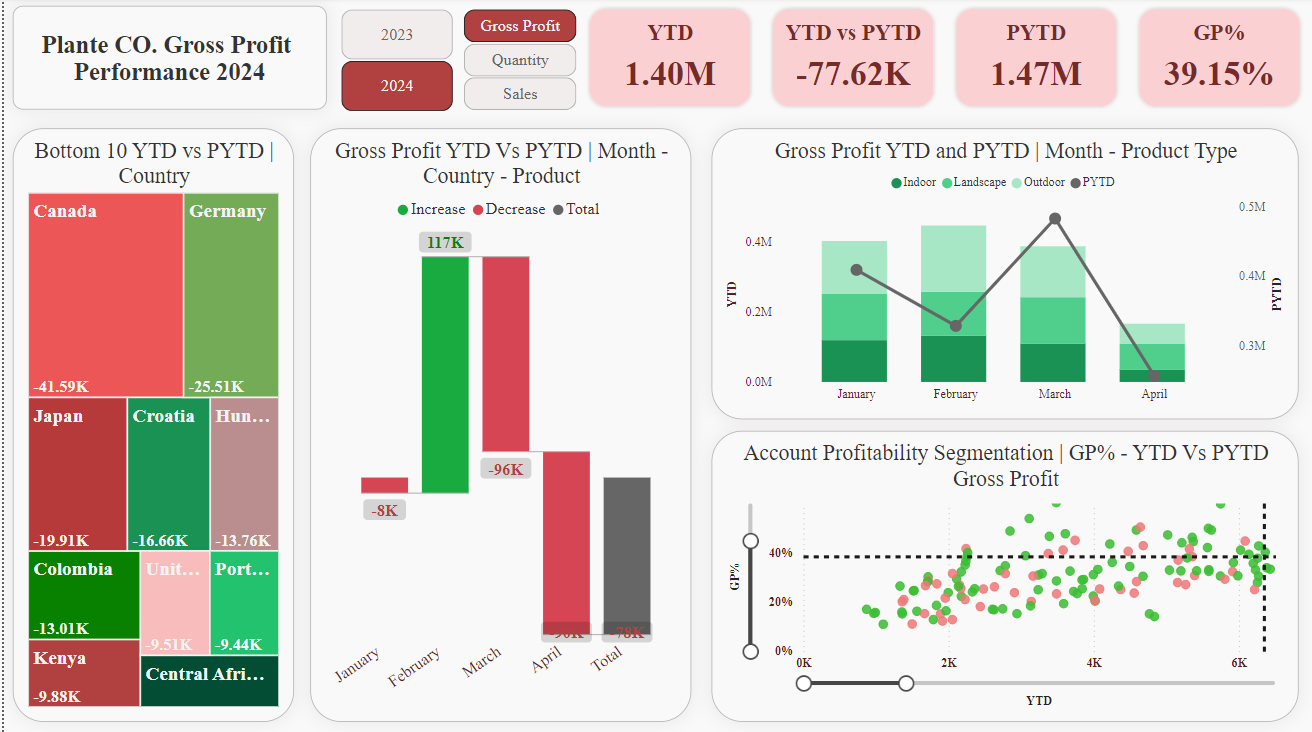

This screenshot's page, from the dashboard's own definition file:
{"tool":"powerbi","page":{"name":"Page 1","canvas":[1280,720],"ordinal":0},"visuals":[{"type":"cardVisual","fields":{"Data":["_Measures.S_YTD","_Measures.YTD vs PYTD","_Measures.S_PYTD","_Measures.GP%"]},"box":[561.3,0,718,119.8],"z":0},{"type":"advancedSlicerVisual","fields":{"Values":["SLC_Values.Values"]},"box":[445,7,120,110.1],"z":1000},{"type":"advancedSlicerVisual","fields":{"Values":["Dim_Date.Date.Variation.Date Hierarchy.Year"]},"box":[325,7,119.8,110.1],"z":2000},{"type":"treemap","title":"Bottom 10 YTD vs PYTD | Country","fields":{"Group":["Dim_Account.country"],"Values":["_Measures.YTD vs PYTD"]},"box":[8.6,128.4,275.1,580.8],"z":3000},{"type":"waterfallChart","fields":{"Y":["_Measures.YTD vs PYTD"],"Category":["Dim_Date.Date.Variation.Date Hierarchy.Month","Dim_Account.country","Dim_Product.Produt_Type","Dim_Product.Product_Name"]},"box":[299.6,128.4,373,580.8],"z":4000},{"type":"lineStackedColumnComboChart","fields":{"Category":["Dim_Date.Date.Variation.Date Hierarchy.Month"],"Y":["_Measures.S_YTD"],"Y2":["_Measures.S_PYTD"],"Series":["Dim_Product.Produt_Type"]},"box":[692.1,128.4,574.7,285],"z":5000},{"type":"scatterChart","fields":{"Y":["_Measures.GP%"],"X":["_Measures.S_YTD"],"Category":["Dim_Account.Account"]},"box":[692.1,424.3,574.7,284.9],"z":6000},{"type":"card","fields":{"Values":["_Measures._ReportTitle"]},"box":[8.6,8,306.9,101.5],"z":7000}]}

Visuals, with their boxes in screenshot pixels (x1, y1, x2, y2), scaled from the page's 1280x720 canvas onto the 1312x732 screenshot:
cardVisual - _Measures.S_YTD x _Measures.YTD vs PYTD: Rect(575, 0, 1311, 122)
advancedSlicerVisual - SLC_Values.Values: Rect(456, 7, 579, 119)
advancedSlicerVisual - Dim_Date.Date.Variation.Date Hierarchy.Year: Rect(333, 7, 456, 119)
"Bottom 10 YTD vs PYTD | Country" treemap: Rect(9, 131, 291, 721)
waterfallChart - _Measures.YTD vs PYTD x Dim_Date.Date.Variation.Date Hierarchy.Month: Rect(307, 131, 689, 721)
lineStackedColumnComboChart - Dim_Date.Date.Variation.Date Hierarchy.Month x _Measures.S_YTD: Rect(709, 131, 1298, 420)
scatterChart - _Measures.GP% x _Measures.S_YTD: Rect(709, 431, 1298, 721)
card - _Measures._ReportTitle: Rect(9, 8, 323, 111)
